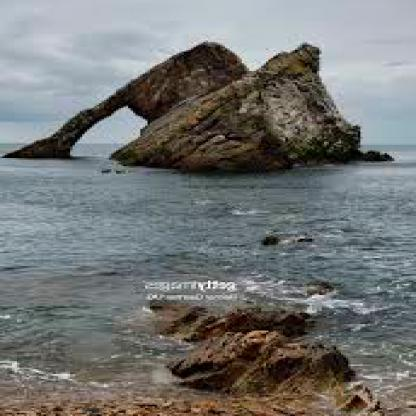Metamorphic_Quartize: (7, 26, 368, 166)
